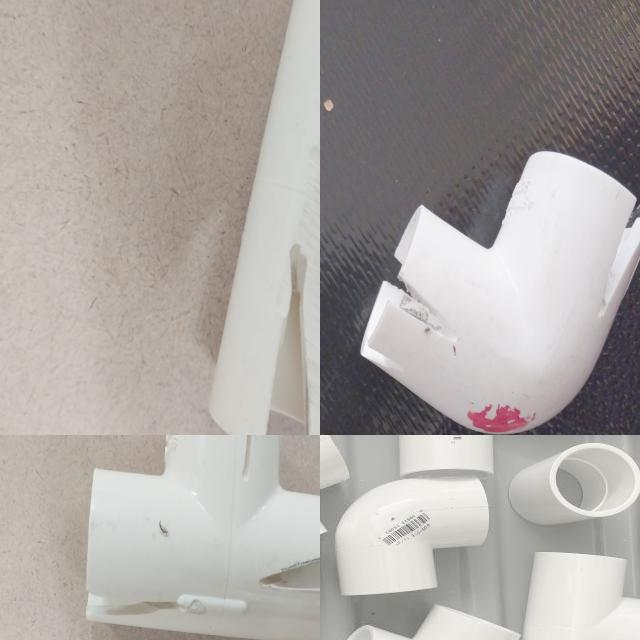Defective: (230, 209, 320, 316), (0, 121, 103, 199), (180, 0, 227, 91), (0, 451, 24, 591), (188, 228, 234, 278)
L Joint: (336, 477, 489, 597)
T Joint: (0, 0, 320, 369), (525, 552, 640, 640)
